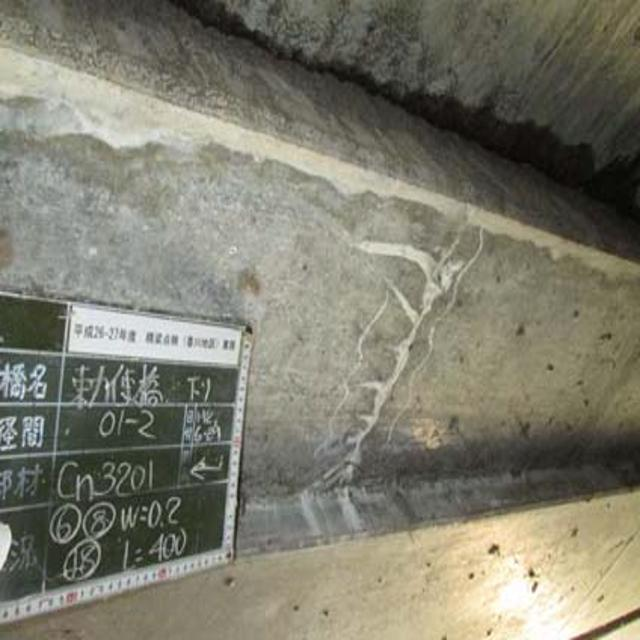freelime: (322, 214, 454, 527)
